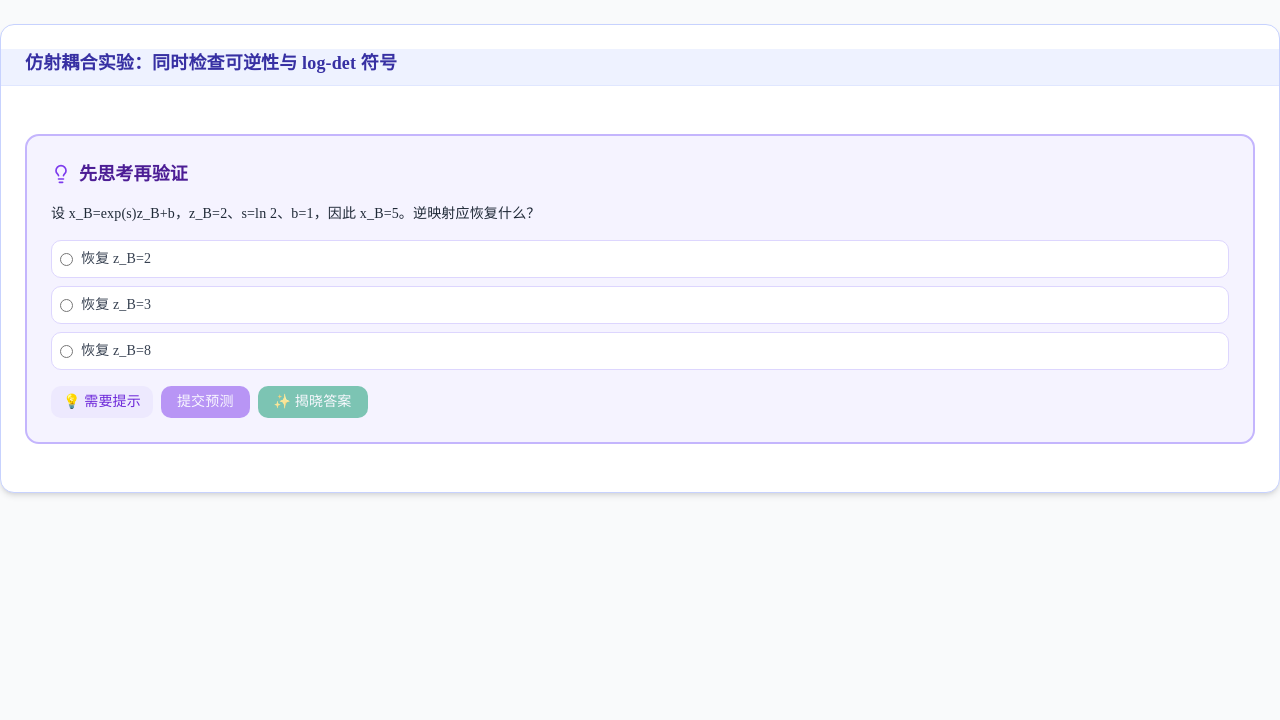
Test case: chapter 15 normalizing flows teaching-ready loop › gates the affine-coupling experiment and verifies the inverse calculation
The image size is (1280, 720).
Click the radio button labelled "恢复 z_B=2".
click(66, 259)  # box [60,252,73,266]
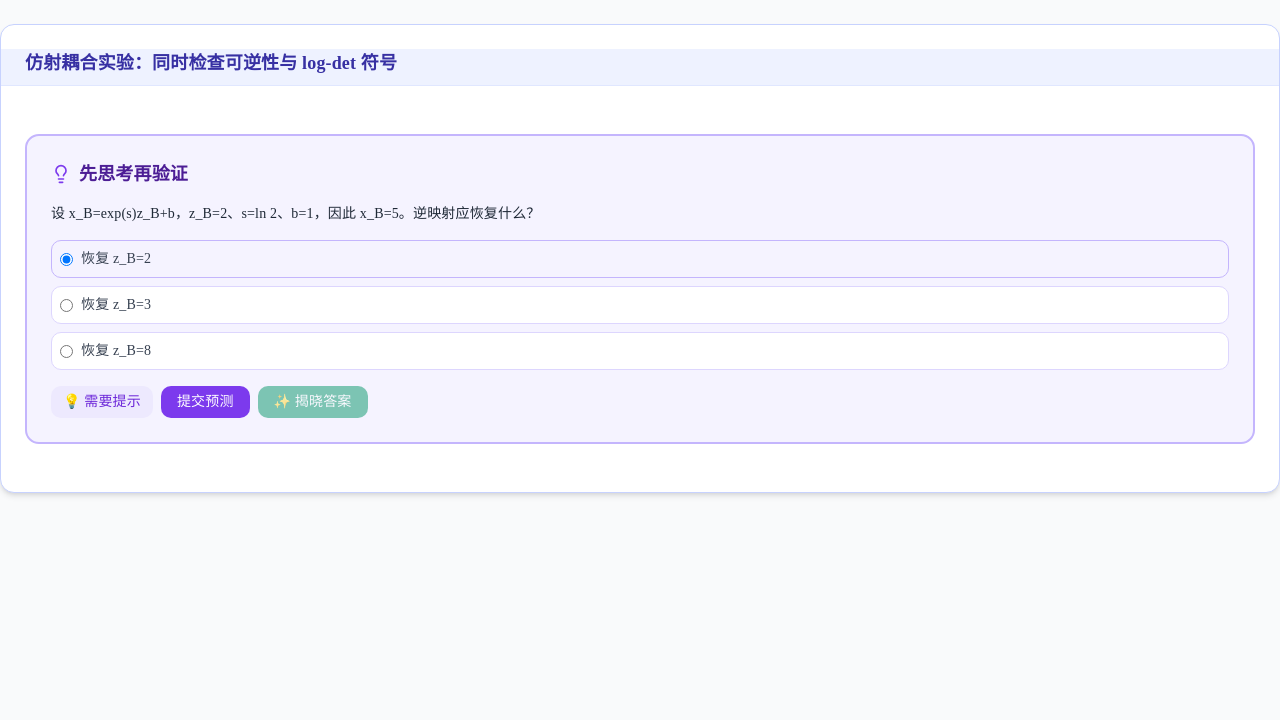
Click the button "提交预测".
click(205, 402)  # box [161,386,250,418]
(page scrolled)
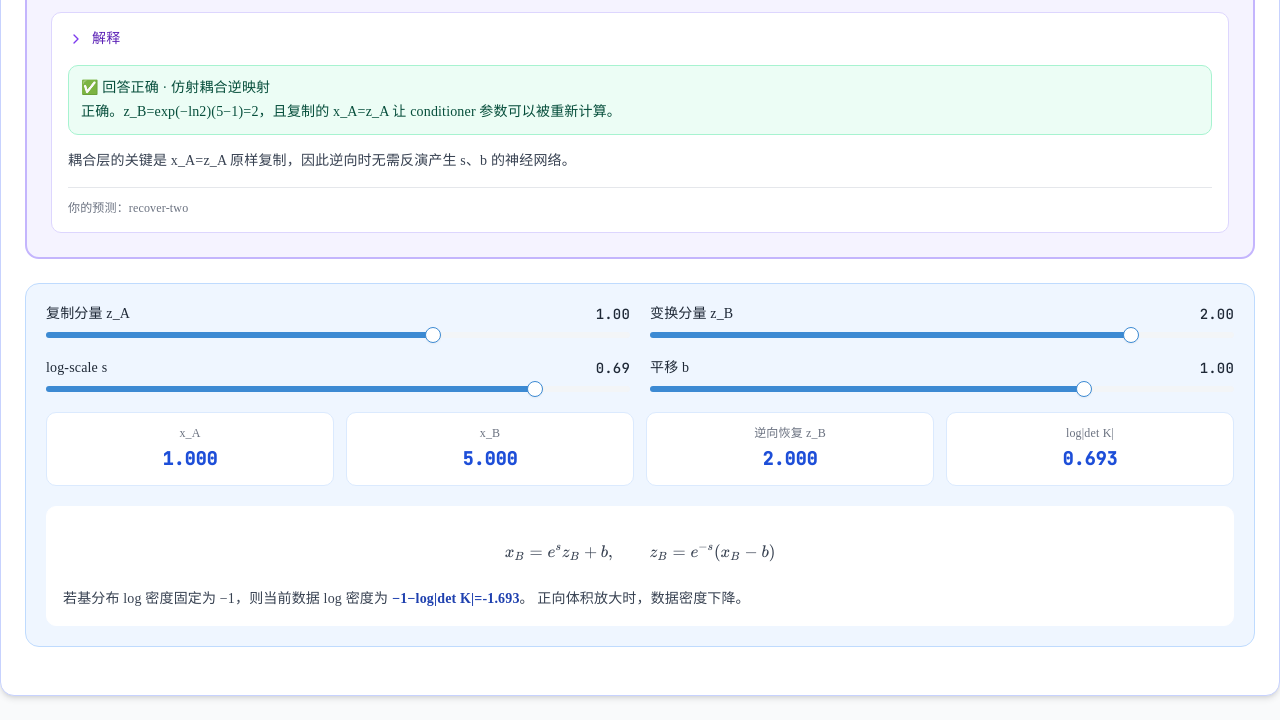
Now the element named "仿射耦合可逆实验区" is shown, box [25,283,1255,647]
Now the element with test id "evaluation-feedback" shows "回答正确", box [81,80,159,95]
Now the text "2.000" is shown, box [763,447,817,470]
